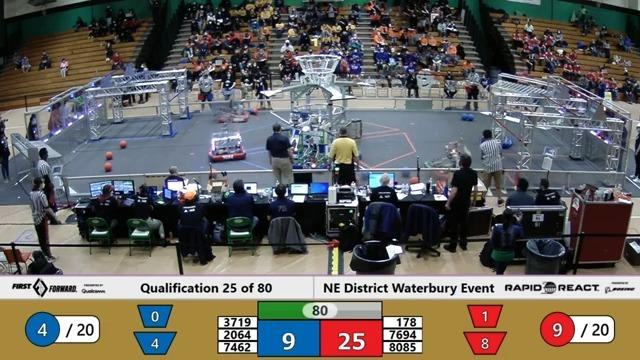robot: (422, 135, 477, 189), (280, 126, 334, 179), (205, 125, 248, 168), (214, 95, 255, 130), (477, 120, 517, 155)
